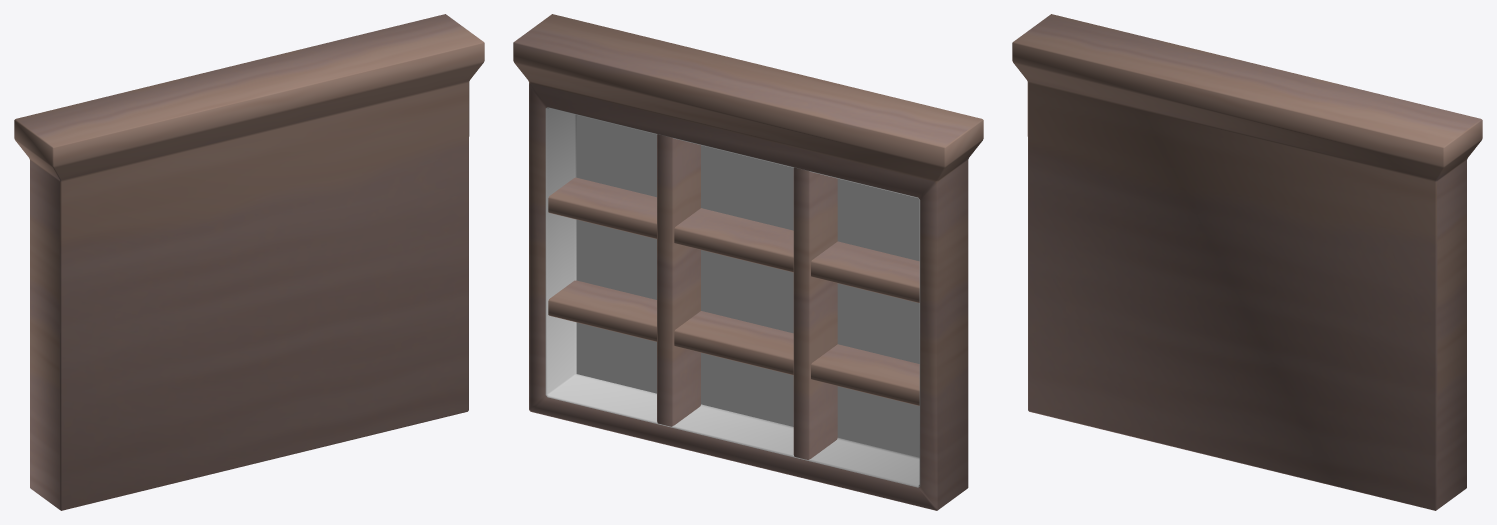
Rendered from Florist_Shelf_01.fbx.
3 renders of one model, left to right at view 1: azimuth 30°, elevation 25°; view 2: azimuth 150°, elevation 25°; view 3: azimuth 330°, elevation 25°, orthographic.
Parts seen in each view (by area): view 1: Florist_Shelf_01; view 2: Florist_Shelf_01; view 3: Florist_Shelf_01.
Boxes of the visible parts, x1,y1,x2,y2 form: Florist_Shelf_01: (14,14,484,510); Florist_Shelf_01: (513,14,983,510); Florist_Shelf_01: (1012,14,1482,510).
Size of the model in its own units: 523 by 428 by 82.15.
